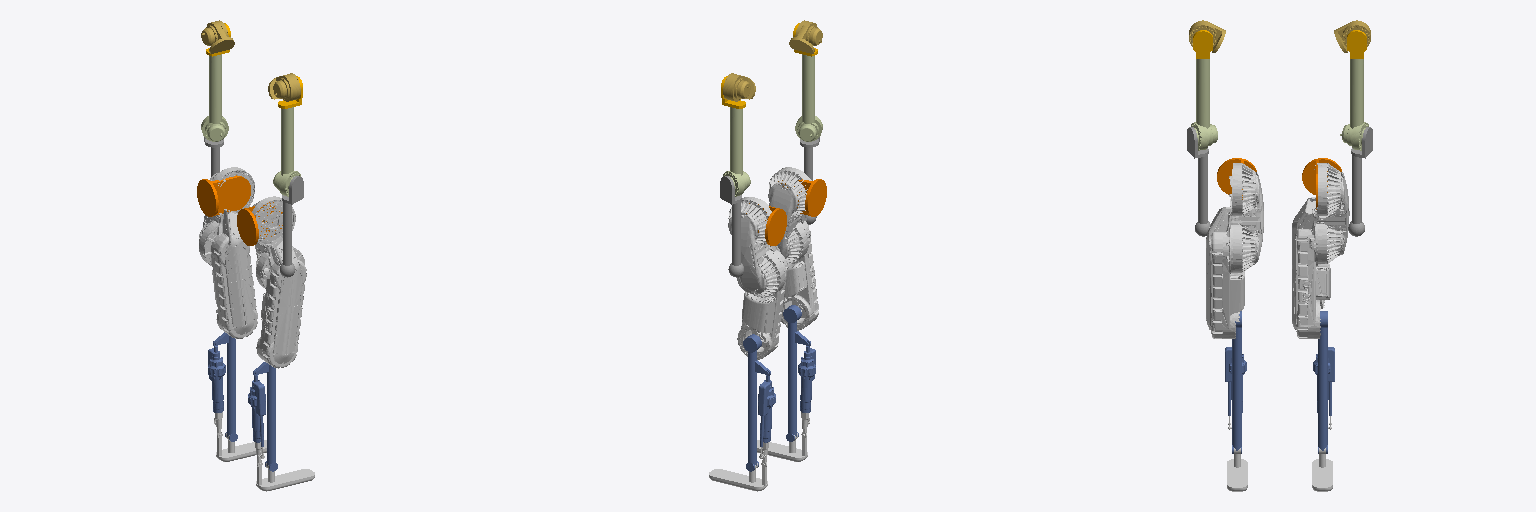
--- What the picture shows (computed from the rendered views, not written in the file) ---
The picture shows the robot from 3 angles, left to right: view 1: azimuth 30°, elevation 25°; view 2: azimuth 150°, elevation 25°; view 3: azimuth 270°, elevation 25°; orthographic projection.
Model qdh with 28 links and 27 joints (18 revolute, 9 fixed), rooted at Torso, posed all joints at 0.
Links seen in each view (by area): view 1: r_thigh_link, l_thigh_link, r_shin_link, l_shin_link, l_hip_aa_link, l_shldr_ie_link, r_shldr_ie_link, r_elbow_fe_link, r_foot_link, l_foot_link, l_shldr_fe_link, r_shldr_fe_link (+1 smaller); view 2: l_thigh_link, r_thigh_link, l_shin_link, r_shin_link, r_shldr_ie_link, l_shldr_ie_link, l_elbow_fe_link, l_foot_link, r_foot_link, r_hip_aa_link, r_shldr_fe_link, l_shldr_fe_link (+1 smaller); view 3: r_thigh_link, l_thigh_link, l_shin_link, r_shin_link, l_shldr_ie_link, r_shldr_ie_link, l_elbow_fe_link, r_elbow_fe_link, l_foot_link, r_foot_link, l_hip_aa_link, r_hip_aa_link.
Link boxes in pixels (box(x1,y1,x2,y2)): r_thigh_link: box(252, 196, 306, 368); l_thigh_link: box(199, 167, 257, 338); r_shin_link: box(248, 362, 277, 471); l_shin_link: box(208, 332, 237, 441); l_hip_aa_link: box(197, 175, 250, 216); l_shldr_ie_link: box(201, 54, 228, 141); r_shldr_ie_link: box(273, 107, 300, 196); r_elbow_fe_link: box(280, 176, 303, 277); r_foot_link: box(255, 442, 314, 491); l_foot_link: box(214, 412, 266, 461); l_shldr_fe_link: box(201, 20, 234, 53); r_shldr_fe_link: box(268, 73, 300, 101); l_thigh_link: box(728, 197, 787, 359); r_thigh_link: box(764, 167, 818, 330); l_shin_link: box(743, 334, 775, 471); r_shin_link: box(783, 305, 815, 441); r_shldr_ie_link: box(795, 54, 822, 141); l_shldr_ie_link: box(723, 107, 750, 196); l_elbow_fe_link: box(720, 176, 743, 277); l_foot_link: box(709, 442, 768, 491); r_foot_link: box(757, 412, 809, 461); r_hip_aa_link: box(778, 179, 826, 216); r_shldr_fe_link: box(789, 20, 822, 53); l_shldr_fe_link: box(723, 73, 755, 101); r_thigh_link: box(1206, 163, 1263, 338); l_thigh_link: box(1292, 163, 1349, 338); l_shin_link: box(1313, 311, 1334, 453); r_shin_link: box(1225, 311, 1246, 453); l_shldr_ie_link: box(1340, 59, 1368, 150); r_shldr_ie_link: box(1191, 59, 1217, 150); l_elbow_fe_link: box(1348, 127, 1372, 236); r_elbow_fe_link: box(1187, 127, 1210, 236); l_foot_link: box(1312, 416, 1332, 491); r_foot_link: box(1227, 416, 1247, 491); l_hip_aa_link: box(1302, 158, 1341, 209); r_hip_aa_link: box(1217, 158, 1256, 199).
Bounding box of the posed robot: 0.2603 × 0.5469 × 1.46 m (x, y, z).
16 mesh visuals loaded from 19 distinct referenced files (16 binary STL); not drawn: 3 (reference not matched to a file when rendering).

robot.urdf — qdh:
<robot name="qdh">
<link name="Torso">
<visual>
<origin xyz="0 0 0" rpy="0 -0 0" />
<geometry>
<mesh filename="package://meshes/qdh_v01/torso_link_visual.stl"/>
</geometry>
<material name="torso_link_material">
<color rgba="0.661061 0.809813 0.846468 1.0"/>
</material>
</visual>
<collision>
<origin xyz="0 0 0" rpy="0 -0 0" />
<geometry>
<mesh filename="package://meshes/qdh_v01/torso_link_collision.stl"/>
</geometry>
<material name="torso_link_material">
<color rgba="0.5 0.5 0.5 1.0"/>
</material>
</collision>
<inertial>
<origin xyz="0.0 0.0 0.292777" rpy="0 0 0"/>
<mass value="24.1689" />
<inertia ixx="0.541355" ixy="-1.93174e-10"  ixz="1.63423e-05" iyy="0.395745" iyz="-1.75763e-09" izz="0.169528" />
</inertial>
</link>

<!--=============================== l_hip_ie (l_hip_ie_link) ===========================-->
<joint name="l_hip_ie" type="revolute">
<origin xyz="0.0 0.125 0.0" rpy="0.0 0.0 -3.14159" />
<parent link="Torso" />
<child link="l_hip_ie_link" />
<axis xyz="0 0.258819 0.965926"/>
<limit effort="70.0" velocity="4.1" lower="-0.523599" upper="0.523599"/>
<joint_properties friction="0.0"/>
</joint>

<link name="l_hip_ie_link">
<visual>
<origin xyz="0 0 0" rpy="0 -0 0" />
<geometry>
<mesh filename="package://meshes/qdh_v01/l_hip_ie_link_visual.stl"/>
</geometry>
<material name="l_hip_ie_link_material">
<color rgba="0.882221 0.910189 0.926037 1.0"/>
</material>
</visual>
<collision>
<origin xyz="0 0 0" rpy="0 -0 0" />
<geometry>
<mesh filename="package://meshes/qdh_v01/l_hip_ie_link_collision.stl"/>
</geometry>
<material name="l_hip_ie_link_material">
<color rgba="0.5 0.5 0.5 1.0"/>
</material>
</collision>
<inertial>
<origin xyz="0.104392 0.00237928 0.00887718" rpy="0 0 0"/>
<mass value="3.96893" />
<inertia ixx="0.0130843" ixy="0.000634222"  ixz="0.00236696" iyy="0.011952" iyz="-0.000642295" izz="0.00972725" />
</inertial>
</link>

<!--=============================== l_hip_aa (l_hip_aa_link) ===========================-->
<joint name="l_hip_aa" type="revolute">
<origin xyz="0.0 0.0 0.0" rpy="0.0 0.0 0.0" />
<parent link="l_hip_ie_link" />
<child link="l_hip_aa_link" />
<axis xyz="-1 0 0"/>
<limit effort="250.0" velocity="16.33" lower="-0.261799" upper="0.785398"/>
<joint_properties friction="0.0"/>
</joint>

<link name="l_hip_aa_link">
<visual>
<origin xyz="0 0 0" rpy="0 -0 0" />
<geometry>
<mesh filename="package://meshes/qdh_v01/l_hip_aa_link_visual.stl"/>
</geometry>
<material name="l_hip_aa_link_material">
<color rgba="0.972549 0.529412 0.00392157 1.0"/>
</material>
</visual>
<collision>
<origin xyz="0 0 0" rpy="0 -0 0" />
<geometry>
<mesh filename="package://meshes/qdh_v01/l_hip_aa_link_collision.stl"/>
</geometry>
<material name="l_hip_aa_link_material">
<color rgba="0.5 0.5 0.5 1.0"/>
</material>
</collision>
<inertial>
<origin xyz="0.0453699 0.00851046 0.0" rpy="0 0 0"/>
<mass value="1.04819" />
<inertia ixx="0.00149146" ixy="0.000268709"  ixz="0.0" iyy="0.00313198" iyz="0.0" izz="0.00258003" />
</inertial>
</link>

<!--=============================== l_hip_fe (l_thigh_link) ===========================-->
<joint name="l_hip_fe" type="revolute">
<origin xyz="0.0 0.0 0.0" rpy="0.0 0.0 0.0" />
<parent link="l_hip_aa_link" />
<child link="l_thigh_link" />
<axis xyz="-0 -1 -0"/>
<limit effort="250.0" velocity="16.33" lower="-2.0944" upper="0.523599"/>
<joint_properties friction="0.0"/>
</joint>

<link name="l_thigh_link">
<visual>
<origin xyz="0 0 0" rpy="0 -0 0" />
<geometry>
<mesh filename="package://meshes/qdh_v01/l_thigh_link_visual.stl"/>
</geometry>
<material name="l_thigh_link_material">
<color rgba="0.848889 0.848889 0.848889 1.0"/>
</material>
</visual>
<collision>
<origin xyz="0 0 0" rpy="0 -0 0" />
<geometry>
<mesh filename="package://meshes/qdh_v01/l_thigh_link_collision.stl"/>
</geometry>
<material name="l_thigh_link_material">
<color rgba="0.5 0.5 0.5 1.0"/>
</material>
</collision>
<inertial>
<origin xyz="-0.0122458 -0.00837821 -0.126312" rpy="0.0 0.0 0.0"/>
<mass value="8.11218" />
<inertia ixx="0.132804" ixy="-9.17515e-05"  ixz="-0.00330904" iyy="0.137766" iyz="0.0111776" izz="0.015208" />
</inertial>
</link>

<!--=============================== l_knee_fe (l_shin_link) ===========================-->
<joint name="l_knee_fe" type="revolute">
<origin xyz="0.0 0.0 -0.42" rpy="0.0 0.0 3.14159" />
<parent link="l_thigh_link" />
<child link="l_shin_link" />
<axis xyz="0 1 6.12323e-17"/>
<limit effort="250.0" velocity="16.33" lower="-0.174533" upper="2.61799"/>
<joint_properties friction="0.0"/>
</joint>

<link name="l_shin_link">
<visual>
<origin xyz="0 0 0" rpy="0 -0 0" />
<geometry>
<mesh filename="package://meshes/qdh_v01/l_shin_link_visual.stl"/>
</geometry>
<material name="l_shin_link_material">
<color rgba="0.408645 0.494114 0.680797 1.0"/>
</material>
</visual>
<collision>
<origin xyz="0 0 0" rpy="0 -0 0" />
<geometry>
<mesh filename="package://meshes/qdh_v01/l_shin_link_collision.stl"/>
</geometry>
<material name="l_shin_link_material">
<color rgba="0.5 0.5 0.5 1.0"/>
</material>
</collision>
<inertial>
<origin xyz="-0.0227771 0.00202875 -0.190035" rpy="0 0 0"/>
<mass value="1.68866" />
<inertia ixx="0.019695" ixy="0.000101816"  ixz="-0.00036985" iyy="0.0207143" iyz="-2.21663e-05" izz="0.00143483" />
</inertial>
</link>

<!--=============================== l_ankle_fe (l_foot_link) ===========================-->
<joint name="l_ankle_fe" type="revolute">
<origin xyz="0.0 0.0 -0.42" rpy="0.0 0.0 0.0" />
<parent link="l_shin_link" />
<child link="l_foot_link" />
<axis xyz="0 1 6.12323e-17"/>
<limit effort="99.0" velocity="5.7" lower="-1.309" upper="0.523599"/>
<joint_properties friction="0.0"/>
</joint>

<link name="l_foot_link">
<visual>
<origin xyz="0 0 0" rpy="0 -0 0" />
<geometry>
<mesh filename="package://meshes/qdh_v01/l_foot_link_visual.stl"/>
</geometry>
<material name="l_foot_link_material">
<color rgba="0.862341 0.862341 0.862341 1.0"/>
</material>
</visual>
<collision>
<origin xyz="0 0 0" rpy="0 -0 0" />
<geometry>
<mesh filename="package://meshes/qdh_v01/l_foot_link_collision.stl"/>
</geometry>
<material name="l_foot_link_material">
<color rgba="0.5 0.5 0.5 1.0"/>
</material>
</collision>
<inertial>
<origin xyz="0.0227981 0.000174967 -0.0266022" rpy="0 0 0"/>
<mass value="0.659155" />
<inertia ixx="0.00291555" ixy="7.85635e-06"  ixz="0.00160026" iyy="0.0051971" iyz="-1.09285e-05" izz="0.00253433" />
</inertial>
</link>

<!--=============================== l_shldr_fe (l_shldr_fe_link) ===========================-->
<joint name="l_shldr_fe" type="revolute">
<origin xyz="0.0 0.225 0.5" rpy="0.0 0.0 -3.14159" />
<parent link="Torso" />
<child link="l_shldr_fe_link" />
<axis xyz="0 -0.866025 0.5"/>
<limit effort="70.0" velocity="4.1" lower="-3.14159" upper="0.785398"/>
<joint_properties friction="0.0"/>
</joint>

<link name="l_shldr_fe_link">
<visual>
<origin xyz="0 0 0" rpy="0 -0 0" />
<geometry>
<mesh filename="package://meshes/qdh_v01/l_shldr_fe_link_visual.stl"/>
</geometry>
<material name="l_shldr_fe_link_material">
<color rgba="0.778525 0.671347 0.361217 1.0"/>
</material>
</visual>
<collision>
<origin xyz="0 0 0" rpy="0 -0 0" />
<geometry>
<mesh filename="package://meshes/qdh_v01/l_shldr_fe_link_collision.stl"/>
</geometry>
<material name="l_shldr_fe_link_material">
<color rgba="0.5 0.5 0.5 1.0"/>
</material>
</collision>
<inertial>
<origin xyz="0.000369843 0.00906443 -0.00296103" rpy="0 0 0"/>
<mass value="1.29278" />
<inertia ixx="0.00132913" ixy="4.33403e-06"  ixz="-1.35362e-06" iyy="0.000862929" iyz="0.000100516" izz="0.0011652" />
</inertial>
</link>

<!--=============================== l_shldr_aa (l_shldr_aa_link) ===========================-->
<joint name="l_shldr_aa" type="revolute">
<origin xyz="0.0 0.0 0" rpy="0.0 0.0 0.0" />
<parent link="l_shldr_fe_link" />
<child link="l_shldr_aa_link" />
<axis xyz="-1 0 0"/>
<limit effort="70.0" velocity="4.1" lower="0" upper="2.0944"/>
<joint_properties friction="0.0"/>
</joint>

<link name="l_shldr_aa_link">
<visual>
<origin xyz="0 0 0" rpy="0 -0 0" />
<geometry>
<mesh filename="package://meshes/qdh_v01/l_shldr_aa_link_visual.stl"/>
</geometry>
<material name="l_shldr_aa_link_material">
<color rgba="0.980392 0.713725 0.00392157 1.0"/>
</material>
</visual>
<collision>
<origin xyz="0 0 0" rpy="0 -0 0" />
<geometry>
<mesh filename="package://meshes/qdh_v01/l_shldr_aa_link_collision.stl"/>
</geometry>
<material name="l_shldr_aa_link_material">
<color rgba="0.5 0.5 0.5 1.0"/>
</material>
</collision>
<inertial>
<origin xyz="-0.0235146 0.0 -0.0282856" rpy="0.0 0.0 0.0"/>
<mass value="0.50916" />
<inertia ixx="0.000477279" ixy="-9.4465e-36"  ixz="0.000156224" iyy="0.00055751" iyz="2.01636e-34" izz="0.000283247" />
</inertial>
</link>

<!--=============================== l_shldr_ie (l_shldr_ie_link) ===========================-->
<joint name="l_shldr_ie" type="revolute">
<origin xyz="0 0 0" rpy="0.0 0.0 0.0" />
<parent link="l_shldr_aa_link" />
<child link="l_shldr_ie_link" />
<axis xyz="0 0 1"/>
<limit effort="70.0" velocity="4.1" lower="0" upper="0"/>
<joint_properties friction="0.0"/>
</joint>

<link name="l_shldr_ie_link">
<visual>
<origin xyz="0 0 0" rpy="0 -0 0" />
<geometry>
<mesh filename="package://meshes/qdh_v01/l_shldr_ie_link_visual.stl"/>
</geometry>
<material name="l_shldr_ie_link_material">
<color rgba="0.770977 0.805086 0.645547 1.0"/>
</material>
</visual>
<collision>
<origin xyz="0 0 0" rpy="0 -0 0" />
<geometry>
<mesh filename="package://meshes/qdh_v01/l_shldr_ie_link_collision.stl"/>
</geometry>
<material name="l_shldr_ie_link_material">
<color rgba="0.5 0.5 0.5 1.0"/>
</material>
</collision>
<inertial>
<origin xyz="0.0 0.000139041 -0.246428" rpy="0 0 0"/>
<mass value="1.7655" />
<inertia ixx="0.0145824" ixy="-1.98116e-05"  ixz="4.02637e-05" iyy="0.0146254" iyz="1.24064e-05" izz="0.000666801" />
</inertial>
</link>

<!--=============================== l_elbow_fe (l_elbow_fe_link) ===========================-->
<joint name="l_elbow_fe" type="revolute">
<origin xyz="0.0 0.0 -0.325" rpy="0.0 0.0 -0.392699" />
<parent link="l_shldr_ie_link" />
<child link="l_elbow_fe_link" />
<axis xyz="0 -1 -6.12323e-17"/>
<limit effort="70.0" velocity="4.1" lower="-2.53073" upper="0.174533"/>
<joint_properties friction="0.0"/>
</joint>

<link name="l_elbow_fe_link">
<visual>
<origin xyz="0 0 0" rpy="0 -0 0" />
<geometry>
<mesh filename="package://meshes/qdh_v01/l_elbow_fe_link_visual.stl"/>
</geometry>
<material name="l_elbow_fe_link_material">
<color rgba="0.647059 0.647059 0.647059 1.0"/>
</material>
</visual>
<collision>
<origin xyz="0 0 0" rpy="0 -0 0" />
<geometry>
<mesh filename="package://meshes/qdh_v01/l_elbow_fe_link_collision.stl"/>
</geometry>
<material name="l_elbow_fe_link_material">
<color rgba="0.5 0.5 0.5 1.0"/>
</material>
</collision>
<inertial>
<origin xyz="0.0 -0.00643269 -0.162661" rpy="0 0 0"/>
<mass value="1.02527" />
<inertia ixx="0.0115586" ixy="0.0"  ixz="0.0" iyy="0.011444" iyz="0.000942624" izz="0.000366721" />
</inertial>
</link>

<!--=============================== r_hip_ie (r_hip_ie_link) ===========================-->
<joint name="r_hip_ie" type="revolute">
<origin xyz="0.0 -0.125 0.0" rpy="0.0 0.0 0.0" />
<parent link="Torso" />
<child link="r_hip_ie_link" />
<axis xyz="0 0.258819 0.965926"/>
<limit effort="70.0" velocity="4.1" lower="-0.523599" upper="0.523599"/>
<joint_properties friction="0.0"/>
</joint>

<link name="r_hip_ie_link">
<visual>
<origin xyz="0 0 0" rpy="0 -0 0" />
<geometry>
<mesh filename="package://meshes/qdh_v01/r_hip_ie_link_visual.stl"/>
</geometry>
<material name="r_hip_ie_link_material">
<color rgba="0.882221 0.910189 0.926037 1.0"/>
</material>
</visual>
<collision>
<origin xyz="0 0 0" rpy="0 -0 0" />
<geometry>
<mesh filename="package://meshes/qdh_v01/r_hip_ie_link_collision.stl"/>
</geometry>
<material name="r_hip_ie_link_material">
<color rgba="0.5 0.5 0.5 1.0"/>
</material>
</collision>
<inertial>
<origin xyz="-0.104392 0.00237807 0.0088775" rpy="0 0 0"/>
<mass value="3.96893" />
<inertia ixx="0.0130843" ixy="-0.000641895"  ixz="-0.00236694" iyy="0.011952" iyz="-0.000630085" izz="0.00972728" />
</inertial>
</link>

<!--=============================== r_hip_aa (r_hip_aa_link) ===========================-->
<joint name="r_hip_aa" type="revolute">
<origin xyz="0 0.0 0.0" rpy="0.0 0.0 0.0" />
<parent link="r_hip_ie_link" />
<child link="r_hip_aa_link" />
<axis xyz="1 0 0"/>
<limit effort="250.0" velocity="16.33" lower="-0.785398" upper="0.261799"/>
<joint_properties friction="0.0"/>
</joint>

<link name="r_hip_aa_link">
<visual>
<origin xyz="0 0 0" rpy="0 -0 0" />
<geometry>
<mesh filename="package://meshes/qdh_v01/r_hip_aa_link_visual.stl"/>
</geometry>
<material name="r_hip_aa_link_material">
<color rgba="0.972549 0.529412 0.00392157 1.0"/>
</material>
</visual>
<collision>
<origin xyz="0 0 0" rpy="0 -0 0" />
<geometry>
<mesh filename="package://meshes/qdh_v01/r_hip_aa_link_collision.stl"/>
</geometry>
<material name="r_hip_aa_link_material">
<color rgba="0.5 0.5 0.5 1.0"/>
</material>
</collision>
<inertial>
<origin xyz="-0.0453699 0.00851046 0.0" rpy="0 0 0"/>
<mass value="1.04819" />
<inertia ixx="0.00149146" ixy="-0.000268709"  ixz="-1.1019e-33" iyy="0.00313198" iyz="-1.11739e-33" izz="0.00258003" />
</inertial>
</link>

<!--=============================== r_hip_fe (r_thigh_link) ===========================-->
<joint name="r_hip_fe" type="revolute">
<origin xyz="0.0 0.0 0.0" rpy="0.0 0.0 0.0" />
<parent link="r_hip_aa_link" />
<child link="r_thigh_link" />
<axis xyz="0 1 0"/>
<limit effort="250.0" velocity="16.33" lower="-2.0944" upper="0.523599"/>
<joint_properties friction="0.0"/>
</joint>

<link name="r_thigh_link">
<visual>
<origin xyz="0 0 0" rpy="0 -0 0" />
<geometry>
<mesh filename="package://meshes/qdh_v01/r_thigh_link_visual.stl"/>
</geometry>
<material name="r_thigh_link_material">
<color rgba="0.848889 0.848889 0.848889 1.0"/>
</material>
</visual>
<collision>
<origin xyz="0 0 0" rpy="0 -0 0" />
<geometry>
<mesh filename="package://meshes/qdh_v01/r_thigh_link_collision.stl"/>
</geometry>
<material name="r_thigh_link_material">
<color rgba="0.5 0.5 0.5 1.0"/>
</material>
</collision>
<inertial>
<origin xyz="0.0122457 -0.00837821 -0.126312" rpy="0 0 0"/>
<mass value="8.11218" />
<inertia ixx="0.132804" ixy="9.17761e-05"  ixz="0.00330976" iyy="0.137766" iyz="0.0111776" izz="0.0152083" />
</inertial>
</link>

<!--=============================== r_knee_fe (r_shin_link) ===========================-->
<joint name="r_knee_fe" type="revolute">
<origin xyz="0.0 0.0 -0.42" rpy="0.0 0.0 0.0" />
<parent link="r_thigh_link" />
<child link="r_shin_link" />
<axis xyz="0 1 6.12323e-17"/>
<limit effort="250.0" velocity="16.33" lower="-0.174533" upper="2.61799"/>
<joint_properties friction="0.0"/>
</joint>

<link name="r_shin_link">
<visual>
<origin xyz="0 0 0" rpy="0 -0 0" />
<geometry>
<mesh filename="package://meshes/qdh_v01/r_shin_link_visual.stl"/>
</geometry>
<material name="r_shin_link_material">
<color rgba="0.408645 0.494114 0.680797 1.0"/>
</material>
</visual>
<collision>
<origin xyz="0 0 0" rpy="0 -0 0" />
<geometry>
<mesh filename="package://meshes/qdh_v01/r_shin_link_collision.stl"/>
</geometry>
<material name="r_shin_link_material">
<color rgba="0.5 0.5 0.5 1.0"/>
</material>
</collision>
<inertial>
<origin xyz="-0.0227695 -0.0020287 -0.190035" rpy="0 0 0"/>
<mass value="1.68866" />
<inertia ixx="0.019695" ixy="-9.5015e-05"  ixz="-0.000557333" iyy="0.0207135" iyz="2.21742e-05" izz="0.00143407" />
</inertial>
</link>

<!--=============================== r_ankle_fe (r_foot_link) ===========================-->
<joint name="r_ankle_fe" type="revolute">
<origin xyz="0.0 0 -0.42" rpy="0.0 0.0 0.0" />
<parent link="r_shin_link" />
<child link="r_foot_link" />
<axis xyz="0 1 6.12323e-17"/>
<limit effort="99.0" velocity="5.7" lower="-1.309" upper="0.523599"/>
<joint_properties friction="0.0"/>
</joint>

<link name="r_foot_link">
<visual>
<origin xyz="0 0 0" rpy="0 -0 0" />
<geometry>
<mesh filename="package://meshes/qdh_v01/r_foot_link_visual.stl"/>
</geometry>
<material name="r_foot_link_material">
<color rgba="0.862341 0.862341 0.862341 1.0"/>
</material>
</visual>
<collision>
<origin xyz="0 0 0" rpy="0 -0 0" />
<geometry>
<mesh filename="package://meshes/qdh_v01/r_foot_link_collision.stl"/>
</geometry>
<material name="r_foot_link_material">
<color rgba="0.5 0.5 0.5 1.0"/>
</material>
</collision>
<inertial>
<origin xyz="0.0227995 -0.000174941 -0.0266021" rpy="0 0 0"/>
<mass value="0.659155" />
<inertia ixx="0.00291557" ixy="-8.08351e-06"  ixz="0.00158457" iyy="0.00519698" iyz="1.09285e-05" izz="0.0025342" />
</inertial>
</link>

<!--=============================== r_shldr_fe (r_shldr_fe_link) ===========================-->
<joint name="r_shldr_fe" type="revolute">
<origin xyz="0.0 -0.225 0.5" rpy="0.0 0.0 0.0" />
<parent link="Torso" />
<child link="r_shldr_fe_link" />
<axis xyz="0 0.866025 -0.5"/>
<limit effort="70.0" velocity="4.1" lower="-3.14159" upper="0.785398"/>
<joint_properties friction="0.0"/>
</joint>

<link name="r_shldr_fe_link">
<visual>
<origin xyz="0 0 0" rpy="0 -0 0" />
<geometry>
<mesh filename="package://meshes/qdh_v01/r_shldr_fe_link_visual.stl"/>
</geometry>
<material name="r_shldr_fe_link_material">
<color rgba="0.778525 0.671347 0.361217 1.0"/>
</material>
</visual>
<collision>
<origin xyz="0 0 0" rpy="0 -0 0" />
<geometry>
<mesh filename="package://meshes/qdh_v01/r_shldr_fe_link_collision.stl"/>
</geometry>
<material name="r_shldr_fe_link_material">
<color rgba="0.5 0.5 0.5 1.0"/>
</material>
</collision>
<inertial>
<origin xyz="-0.000369843 0.00906443 -0.00299746" rpy="0 0 0"/>
<mass value="1.29278" />
<inertia ixx="0.00132885" ixy="-4.33403e-06"  ixz="1.49529e-06" iyy="0.000862648" iyz="0.000100089" izz="0.0011652" />
</inertial>
</link>

<!--=============================== r_shldr_aa (r_shldr_aa_link) ===========================-->
<joint name="r_shldr_aa" type="revolute">
<origin xyz="-1.57772e-30 0 0" rpy="0.0 0.0 0.0" />
<parent link="r_shldr_fe_link" />
<child link="r_shldr_aa_link" />
<axis xyz="1 0 0"/>
<limit effort="70.0" velocity="4.1" lower="-2.0944" upper="0"/>
<joint_properties friction="0.0"/>
</joint>

<link name="r_shldr_aa_link">
<visual>
<origin xyz="0 0 0" rpy="0 -0 0" />
<geometry>
<mesh filename="package://meshes/qdh_v01/r_shldr_aa_link_visual.stl"/>
</geometry>
<material name="r_shldr_aa_link_material">
<color rgba="0.980392 0.713725 0.00392157 1.0"/>
</material>
</visual>
<collision>
<origin xyz="0 0 0" rpy="0 -0 0" />
<geometry>
<mesh filename="package://meshes/qdh_v01/r_shldr_aa_link_collision.stl"/>
</geometry>
<material name="r_shldr_aa_link_material">
<color rgba="0.5 0.5 0.5 1.0"/>
</material>
</collision>
<inertial>
<origin xyz="0.0235146 0.0 -0.0282856" rpy="0 0 0"/>
<mass value="0.50916" />
<inertia ixx="0.000477279" ixy="-7.64958e-34"  ixz="-0.000156224" iyy="0.00055751" iyz="6.71119e-34" izz="0.000283247" />
</inertial>
</link>

<!--=============================== r_shldr_ie (r_shldr_ie_link) ===========================-->
<joint name="r_shldr_ie" type="revolute">
<origin xyz="0.0 0 0" rpy="0.0 0.0 0.0" />
<parent link="r_shldr_aa_link" />
<child link="r_shldr_ie_link" />
<axis xyz="0 0 1"/>
<limit effort="70.0" velocity="4.1" lower="0" upper="0"/>
<joint_properties friction="0.0"/>
</joint>

<link name="r_shldr_ie_link">
<visual>
<origin xyz="0 0 0" rpy="0 -0 0" />
<geometry>
<mesh filename="package://meshes/qdh_v01/r_shldr_ie_link_visual.stl"/>
</geometry>
<material name="r_shldr_ie_link_material">
<color rgba="0.770977 0.805086 0.645547 1.0"/>
</material>
</visual>
<collision>
<origin xyz="0 0 0" rpy="0 -0 0" />
<geometry>
<mesh filename="package://meshes/qdh_v01/r_shldr_ie_link_collision.stl"/>
</geometry>
<material name="r_shldr_ie_link_material">
<color rgba="0.5 0.5 0.5 1.0"/>
</material>
</collision>
<inertial>
<origin xyz="0.0 0.00012884 -0.246428" rpy="0 0 0"/>
<mass value="1.7655" />
<inertia ixx="0.0145824" ixy="1.98274e-05"  ixz="-4.36817e-05" iyy="0.0146255" iyz="1.0988e-05" izz="0.000666801" />
</inertial>
</link>

<!--=============================== r_elbow_fe (r_elbow_fe_link) ===========================-->
<joint name="r_elbow_fe" type="revolute">
<origin xyz="0.0 0.0 -0.325" rpy="0.0 0.0 0.392699" />
<parent link="r_shldr_ie_link" />
<child link="r_elbow_fe_link" />
<axis xyz="0 1 6.12323e-17"/>
<limit effort="70.0" velocity="4.1" lower="-2.53073" upper="0.174533"/>
<joint_properties friction="0.0"/>
</joint>

<link name="r_elbow_fe_link">
<visual>
<origin xyz="0 0 0" rpy="0 -0 0" />
<geometry>
<mesh filename="package://meshes/qdh_v01/r_elbow_fe_link_visual.stl"/>
</geometry>
<material name="r_elbow_fe_link_material">
<color rgba="0.647059 0.647059 0.647059 1.0"/>
</material>
</visual>
<collision>
<origin xyz="0 0 0" rpy="0 -0 0" />
<geometry>
<mesh filename="package://meshes/qdh_v01/r_elbow_fe_link_collision.stl"/>
</geometry>
<material name="r_elbow_fe_link_material">
<color rgba="0.5 0.5 0.5 1.0"/>
</material>
</collision>
<inertial>
<origin xyz="0.0 -0.00643269 -0.162661" rpy="0 0 0"/>
<mass value="1.02527" />
<inertia ixx="0.0115586" ixy="-4.44287e-18"  ixz="-4.9277e-20" iyy="0.011444" iyz="0.000942624" izz="0.000366721" />
</inertial>
</link>


  <link name="IMU">
    <inertial>
      <mass value="0.0001"/>
      <origin rpy="0 0 0" xyz="0.0 0.0 0.0"/>
      <inertia ixx="0.00000001" ixy="0" ixz="0" iyy="0.00000001" iyz="0" izz="0.00000001"/>
    </inertial>
  </link>
  <joint name="IMU" type="fixed">
    <origin rpy="0 3.1415926 0" xyz="-0.05 -0.00 0.055"/>
    <parent link="Torso"/>
    <child link="IMU"/>
  </joint>


  <link name="lToe">
    <inertial>
      <origin rpy="0 0 0" xyz="0 0 0"/>
      <mass value="0"/>
      <inertia ixx="0" ixy="0" ixz="0" iyy="0" iyz="0" izz="0"/>
    </inertial>
  </link>
  <joint name="lToe" type="fixed">
    <origin rpy="0 0 0" xyz="0.125 0 -0.075"/>
    <parent link="l_foot_link"/>
    <child link="lToe"/>
  </joint>
  <link name="lHeel">
    <inertial>
      <origin rpy="0 0 0" xyz="0 0 0"/>
      <mass value="0"/>
      <inertia ixx="0" ixy="0" ixz="0" iyy="0" iyz="0" izz="0"/>
    </inertial>
  </link>
  <joint name="lHeel" type="fixed">
    <origin rpy="0 0 0" xyz="-0.025 0 -0.075"/>
    <parent link="l_foot_link"/>
    <child link="lHeel"/>
  </joint>
  <joint name="l_foot_contact_frame" type="fixed">
    <origin rpy="0 0 0" xyz="0 0 -0.075"/>
    <parent link="l_foot_link"/>
    <child link="lFoot"/>
  </joint>
  <link name="lFoot">
    <inertial>
      <origin rpy="0 0 0" xyz="0 0 0"/>
      <mass value="1e-9"/>
      <inertia ixx="0" ixy="0" ixz="0" iyy="0" iyz="0" izz="0"/>
    </inertial>
  </link>
  <link name="rToe">
    <inertial>
      <origin rpy="0 0 0" xyz="0 0 0"/>
      <mass value="0"/>
      <inertia ixx="0" ixy="0" ixz="0" iyy="0" iyz="0" izz="0"/>
    </inertial>
  </link>
  <joint name="rToe" type="fixed">
    <origin rpy="0 0 0" xyz="0.125 0 -0.075"/>
    <parent link="r_foot_link"/>
    <child link="rToe"/>
  </joint>
  <link name="rHeel">
    <inertial>
      <origin rpy="0 0 0" xyz="0 0 0"/>
      <mass value="0"/>
      <inertia ixx="0" ixy="0" ixz="0" iyy="0" iyz="0" izz="0"/>
    </inertial>
  </link>
  <joint name="rHeel" type="fixed">
    <origin rpy="0 0 0" xyz="-0.025 0 -0.075"/>
    <parent link="r_foot_link"/>
    <child link="rHeel"/>
  </joint>
  <joint name="r_foot_contact_frame" type="fixed">
    <origin rpy="0 0 0" xyz="0 0 -0.075"/>
    <parent link="r_foot_link"/>
    <child link="rFoot"/>
  </joint>
  <link name="rFoot">
    <inertial>
      <origin rpy="0 0 0" xyz="0 0 0"/>
      <mass value="1e-9"/>
      <inertia ixx="0" ixy="0" ixz="0" iyy="0" iyz="0" izz="0"/>
    </inertial>
  </link>


  <link name="lHand">
    <inertial>
      <origin rpy="0 0 0" xyz="0 0 0"/>
      <mass value="0.000001"/>
      <inertia ixx="0" ixy="0" ixz="0" iyy="0" iyz="0" izz="0"/>
    </inertial>
  </link>
  <joint name="lHand" type="fixed">
    <origin rpy="0 0 0" xyz="0 0 -0.3"/>
    <parent link="l_elbow_fe_link"/>
    <child link="lHand"/>
  </joint>
  <link name="rHand">
    <inertial>
      <origin rpy="0 0 0" xyz="0 0 0"/>
      <mass value="0.000001"/>
      <inertia ixx="0" ixy="0" ixz="0" iyy="0" iyz="0" izz="0"/>
    </inertial>
  </link>
  <joint name="rHand" type="fixed">
    <origin rpy="0 0 0" xyz="0 0 -0.3"/>
    <parent link="r_elbow_fe_link"/>
    <child link="rHand"/>
  </joint>



  <gazebo>
    <plugin filename="ign_cortex_control_plugin" name="aptk::sim::IgnControlPlugin">
      <control_rate>1000</control_rate>
    </plugin>
    <plugin filename="ignition-gazebo-imu-system" name="ignition::gazebo::systems::Imu">
    </plugin>
    <plugin filename="ignition-gazebo-odometry-publisher-system" name="ignition::gazebo::systems::OdometryPublisher">
      <dimensions>3</dimensions>
      <odom_publish_frequency>1000</odom_publish_frequency>
    </plugin>
  </gazebo>

  <gazebo reference="IMU">
    <sensor name="IMU" type="imu">
      <always_on>1</always_on>
      <update_rate>1000</update_rate>
      <visualize>true</visualize>
      <topic>imu_link</topic>
      <imu>
        <angular_velocity>
          <x>
            <noise type="gaussian">
              <mean>0.0</mean>
              <stddev>2e-4</stddev>
              <bias_mean>0.0000075</bias_mean>
              <bias_stddev>0.0000008</bias_stddev>
            </noise>
          </x>
          <y>
            <noise type="gaussian">
              <mean>0.0</mean>
              <stddev>2e-4</stddev>
              <bias_mean>0.0000075</bias_mean>
              <bias_stddev>0.0000008</bias_stddev>
            </noise>
          </y>
          <z>
            <noise type="gaussian">
              <mean>0.0</mean>
              <stddev>2e-4</stddev>
              <bias_mean>0.0000075</bias_mean>
              <bias_stddev>0.0000008</bias_stddev>
            </noise>
          </z>
        </angular_velocity>
        <linear_acceleration>
          <x>
            <noise type="gaussian">
              <mean>0.0</mean>
              <stddev>1.7e-2</stddev>
              <bias_mean>0.1</bias_mean>
              <bias_stddev>0.001</bias_stddev>
            </noise>
          </x>
          <y>
            <noise type="gaussian">
              <mean>0.0</mean>
              <stddev>1.7e-2</stddev>
              <bias_mean>0.1</bias_mean>
              <bias_stddev>0.001</bias_stddev>
            </noise>
          </y>
          <z>
            <noise type="gaussian">
              <mean>0.0</mean>
              <stddev>1.7e-2</stddev>
              <bias_mean>0.1</bias_mean>
              <bias_stddev>0.001</bias_stddev>
            </noise>
          </z>
        </linear_acceleration>
      </imu>
    </sensor>
  </gazebo>


</robot>
